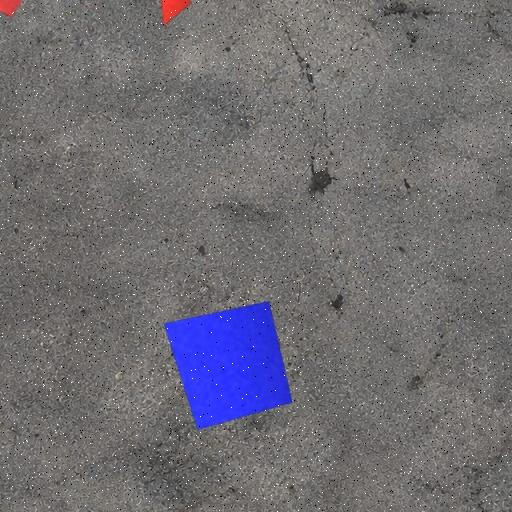BLUE_SQUARE: (163, 300, 293, 431)
